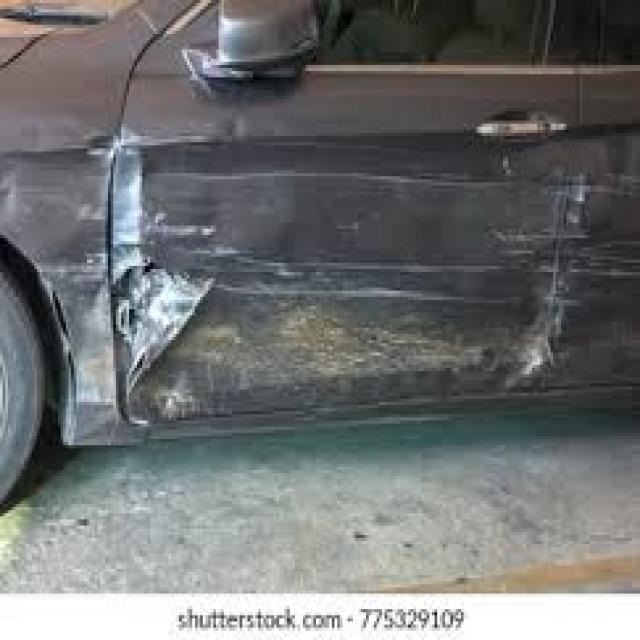damaged-door: (115, 0, 588, 433)
